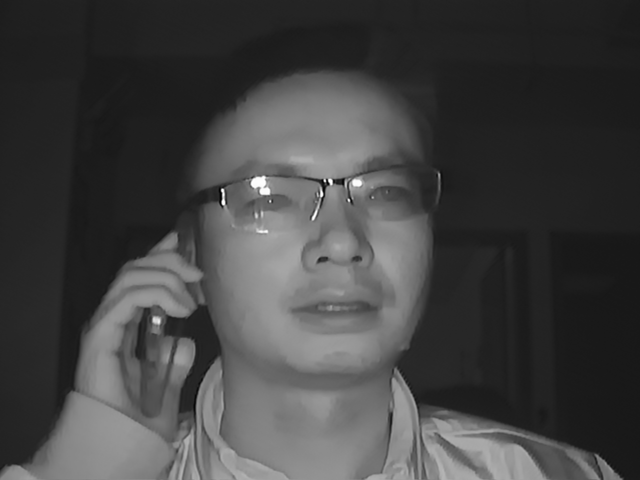hand: (73, 234, 199, 430)
